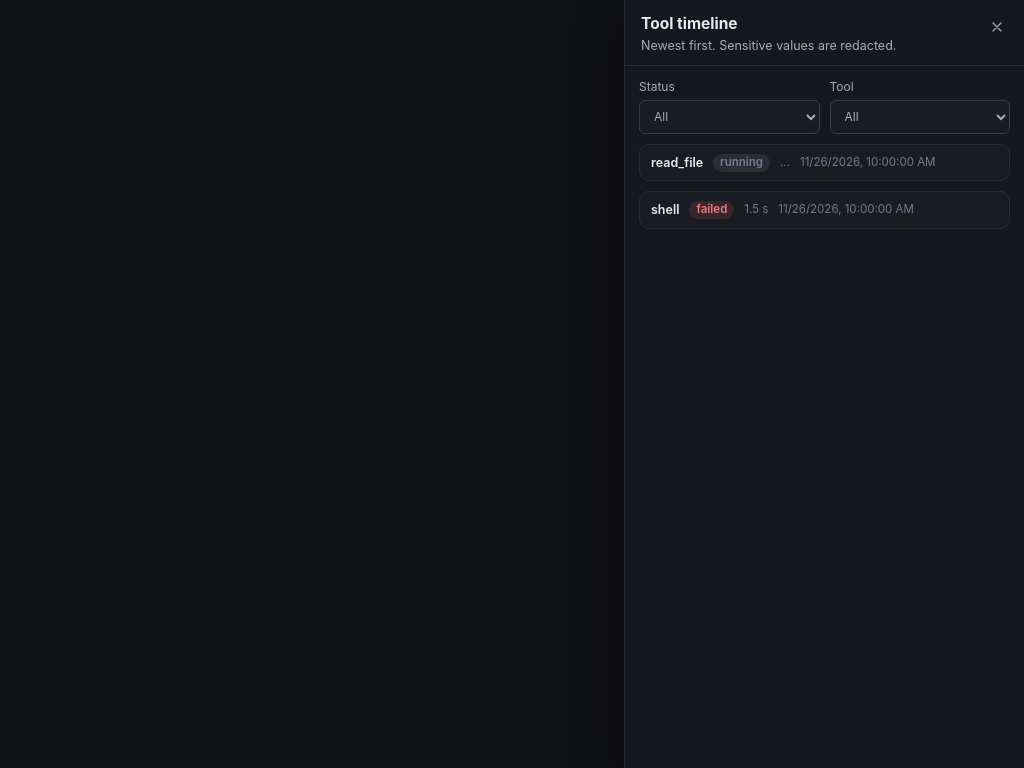
Test case: tool timeline › shows only this conversation, follows live calls, filters and unsubscribes
The width and height of the screenshot is (1024, 768).
Check: the text "shell" is shown, box [651,200,680,220]
Check: the text "read_file" is shown, box [651,153,703,172]
Select "running" in the dropdown labelled "Status" at (729, 117), box [639,100,820,134]
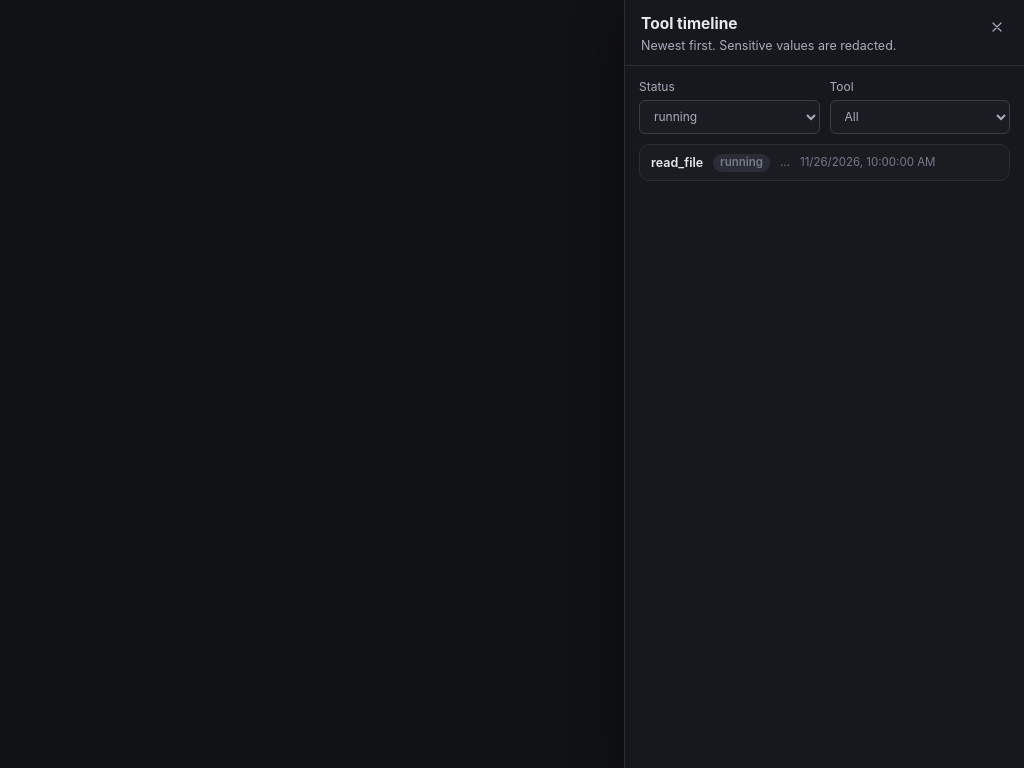
Check: the heading "shell" is gone
